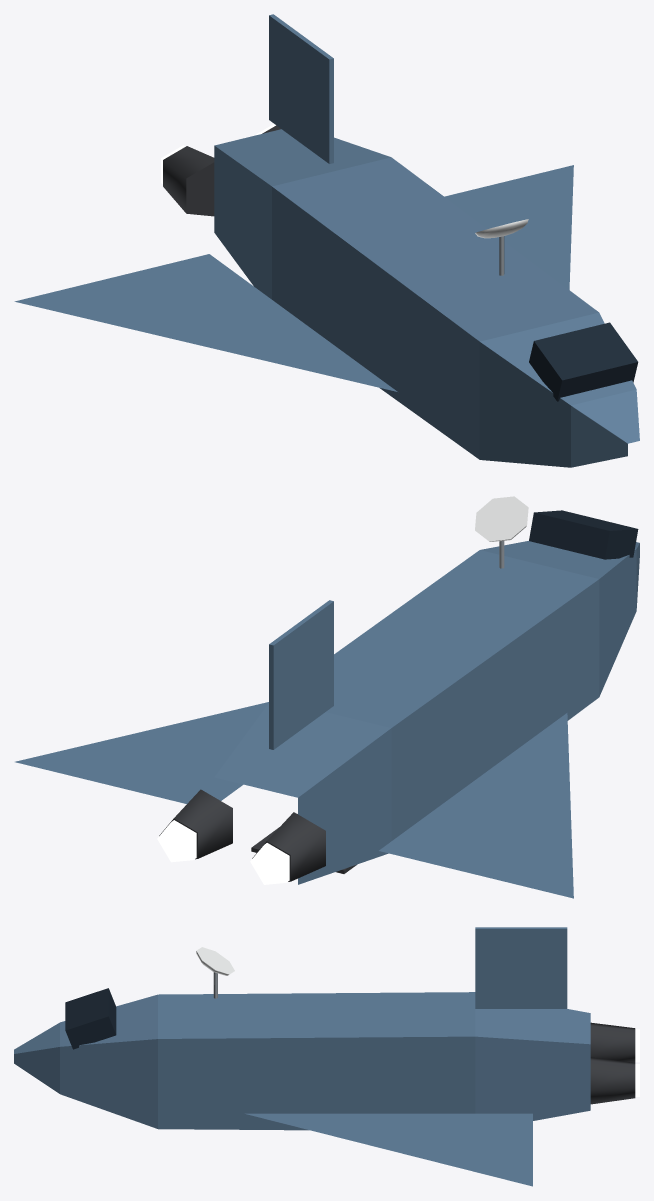
File: space_ship_shuttle_mk6_lod1.glb
3 renders of one model, top to bottom at view 1: azimuth 30°, elevation 25°; view 2: azimuth 150°, elevation 25°; view 3: azimuth 270°, elevation 25°, orthographic. The views are drawn at different scales.
Visible parts, largest first — view 1: body, engine_1, antenna_0; view 2: body, engine_0, engine_1, antenna_0; view 3: body, engine_0, engine_1, antenna_0.
Boxes of the visible parts, x1,y1,x2,y2 form: body: (14,14,639,467); engine_1: (161,145,214,216); antenna_0: (475,219,528,275); body: (15,510,639,898); engine_0: (157,789,232,862); engine_1: (250,812,325,884); antenna_0: (475,496,528,568); body: (14,927,590,1186); engine_0: (590,1057,639,1104); engine_1: (590,1022,639,1062); antenna_0: (196,947,234,998).
Size of the model in its own units: 12.32 by 4.99 by 15.64.
